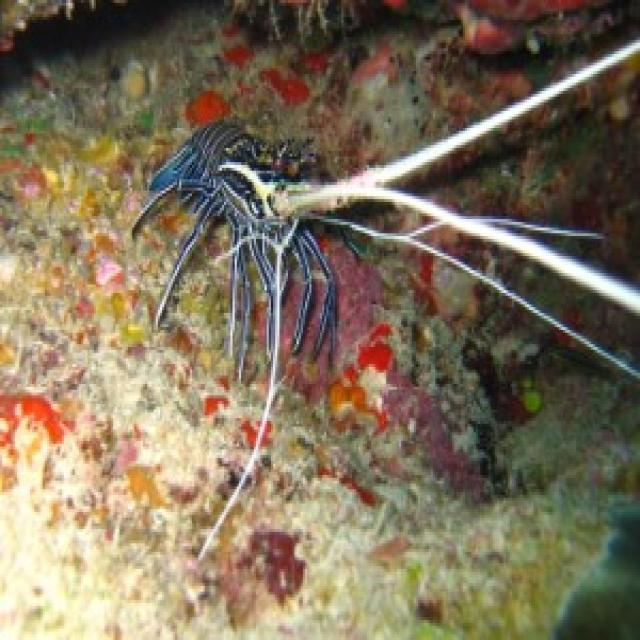lobsters: (110, 0, 616, 454)
